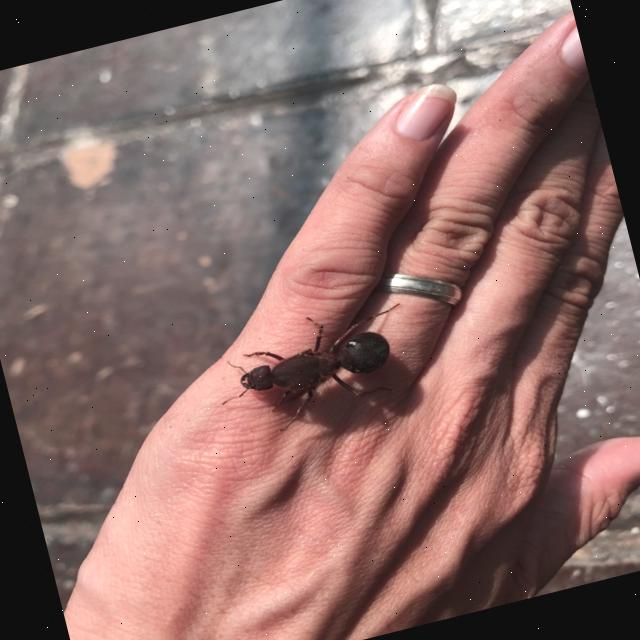Alive-Female-Dealate: (206, 294, 423, 444)
